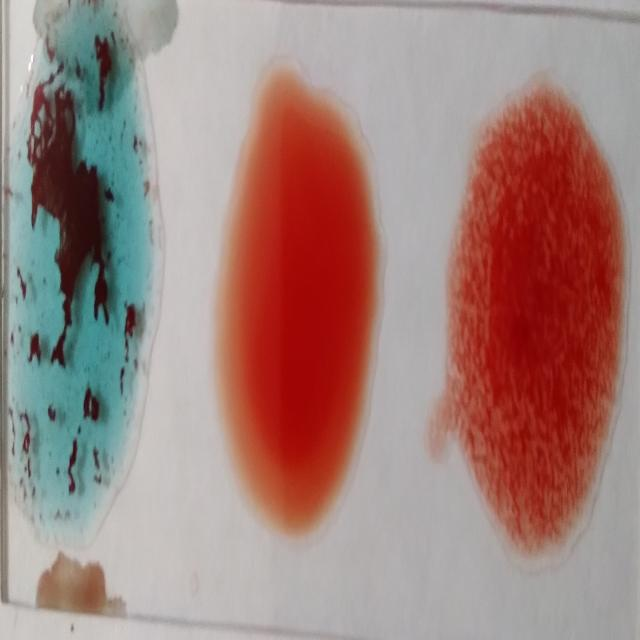A: (7, 35, 159, 525)
D: (446, 105, 624, 568)
